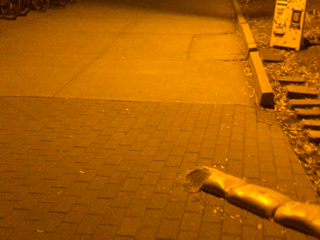Edge: (232, 6, 279, 108)
Obstacle: (187, 160, 318, 238)
